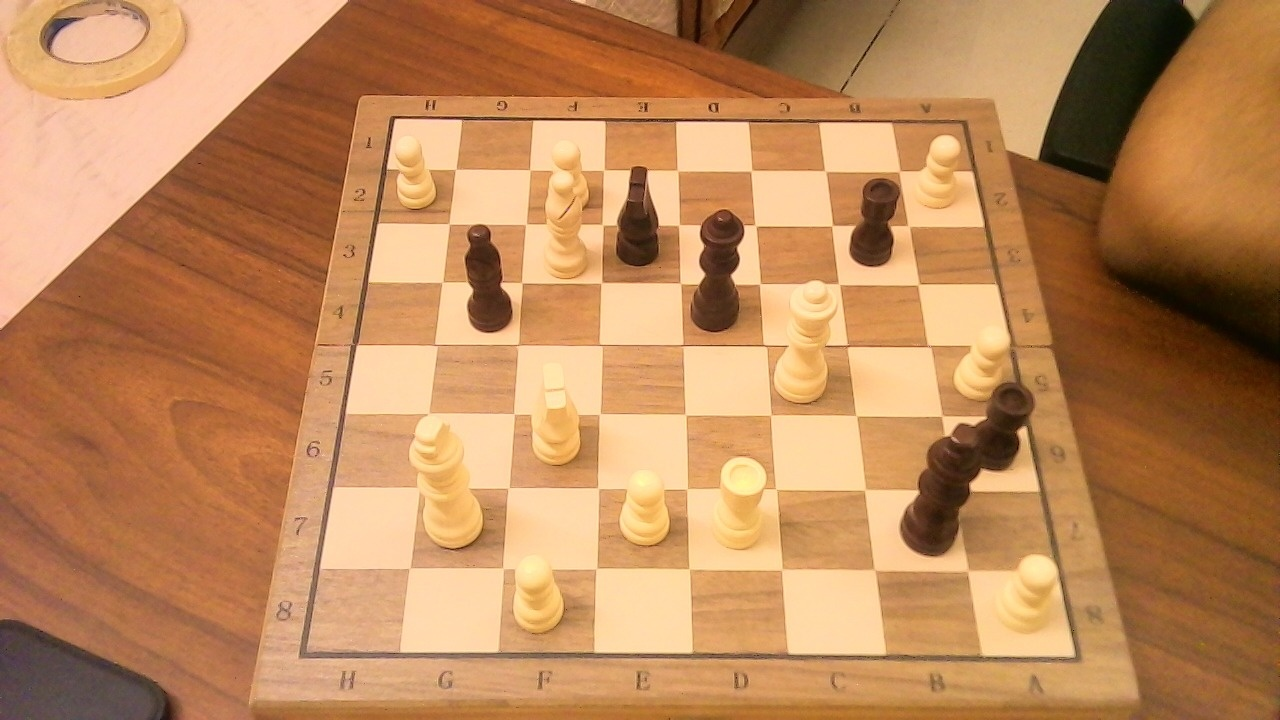B: (532, 160, 596, 282)
K: (405, 403, 492, 552)
N: (518, 352, 591, 469)
P: (989, 544, 1068, 638), (504, 544, 572, 638), (947, 316, 1018, 404), (608, 460, 677, 550), (909, 126, 970, 213), (386, 127, 443, 211), (540, 132, 594, 212)
Q: (772, 269, 847, 406)
R: (702, 445, 776, 556)
b: (452, 208, 520, 337)
k: (894, 409, 993, 563)
n: (608, 155, 672, 270)
q: (686, 199, 760, 336)
r: (960, 369, 1044, 473), (843, 165, 912, 272)
